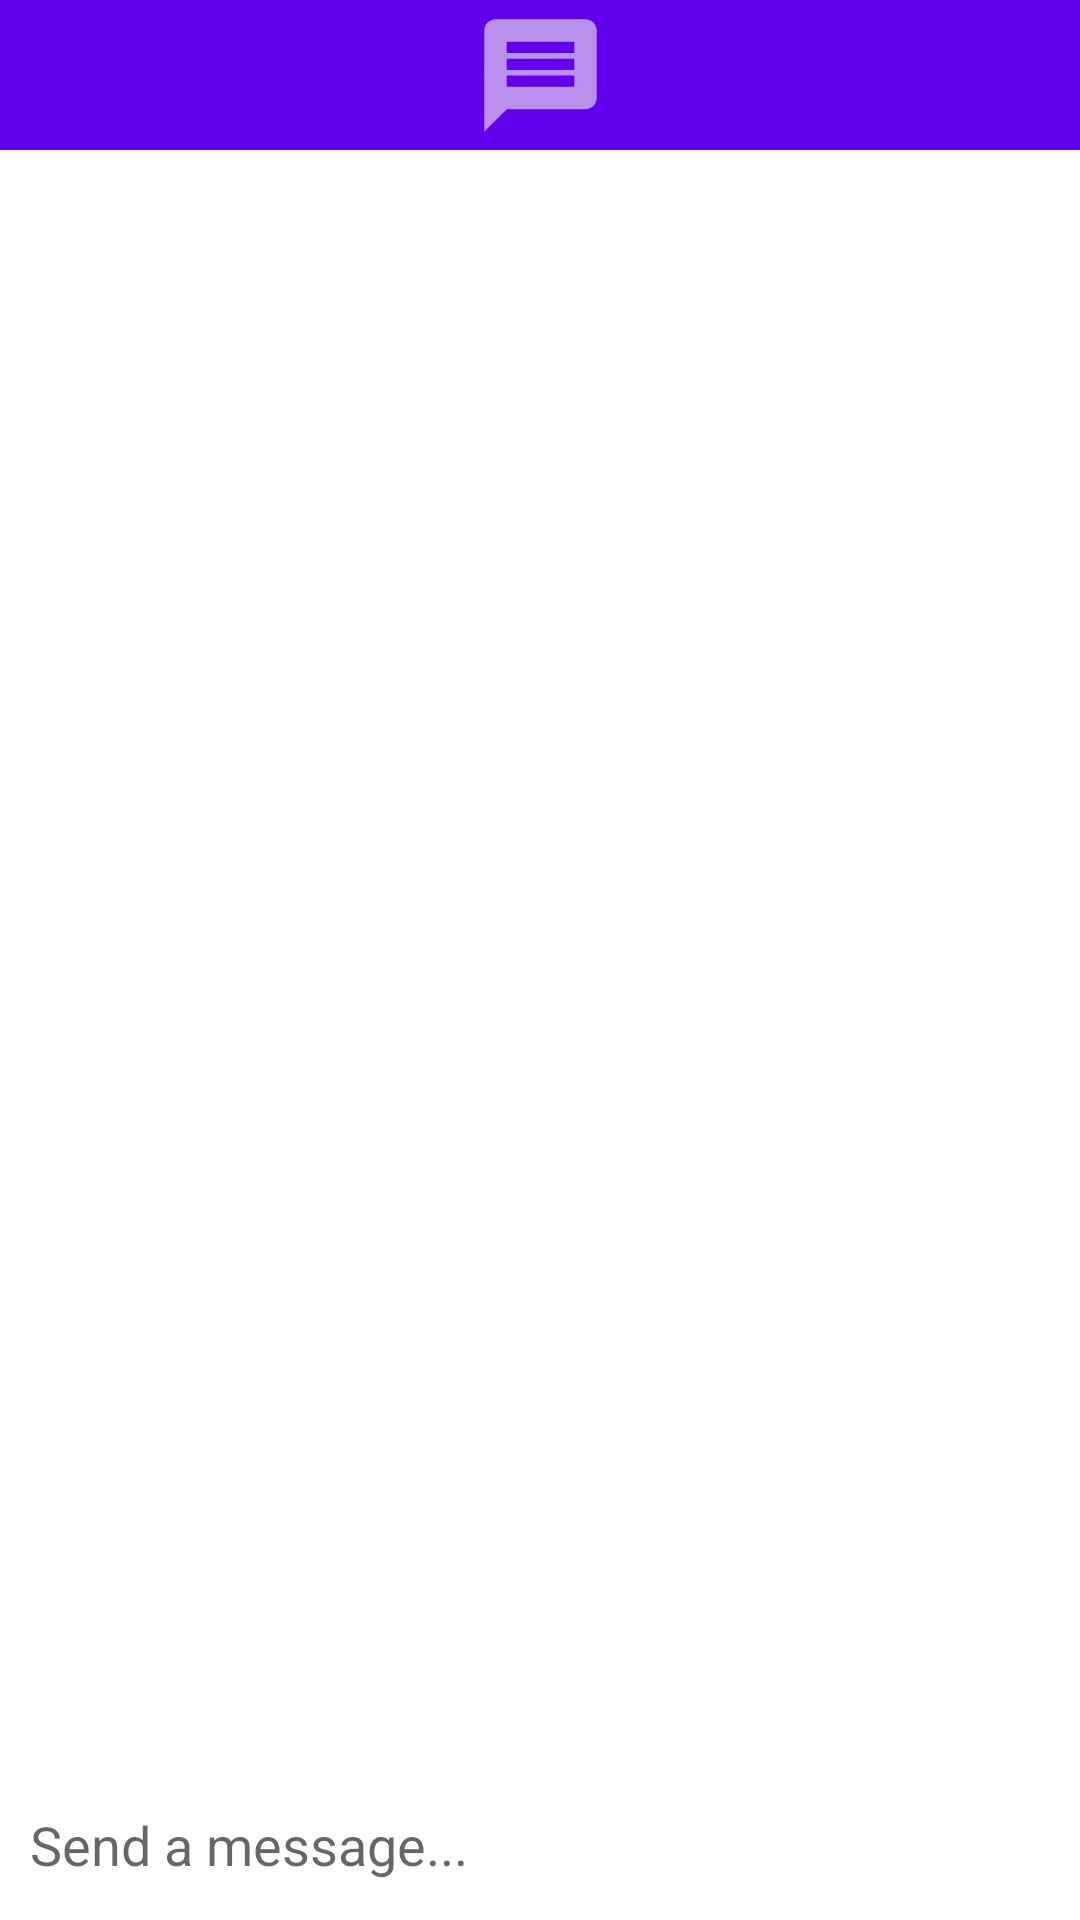

Where to tap for icons on this 1080 × 1920 app screen, as [x,y]:
message: [540,75]
